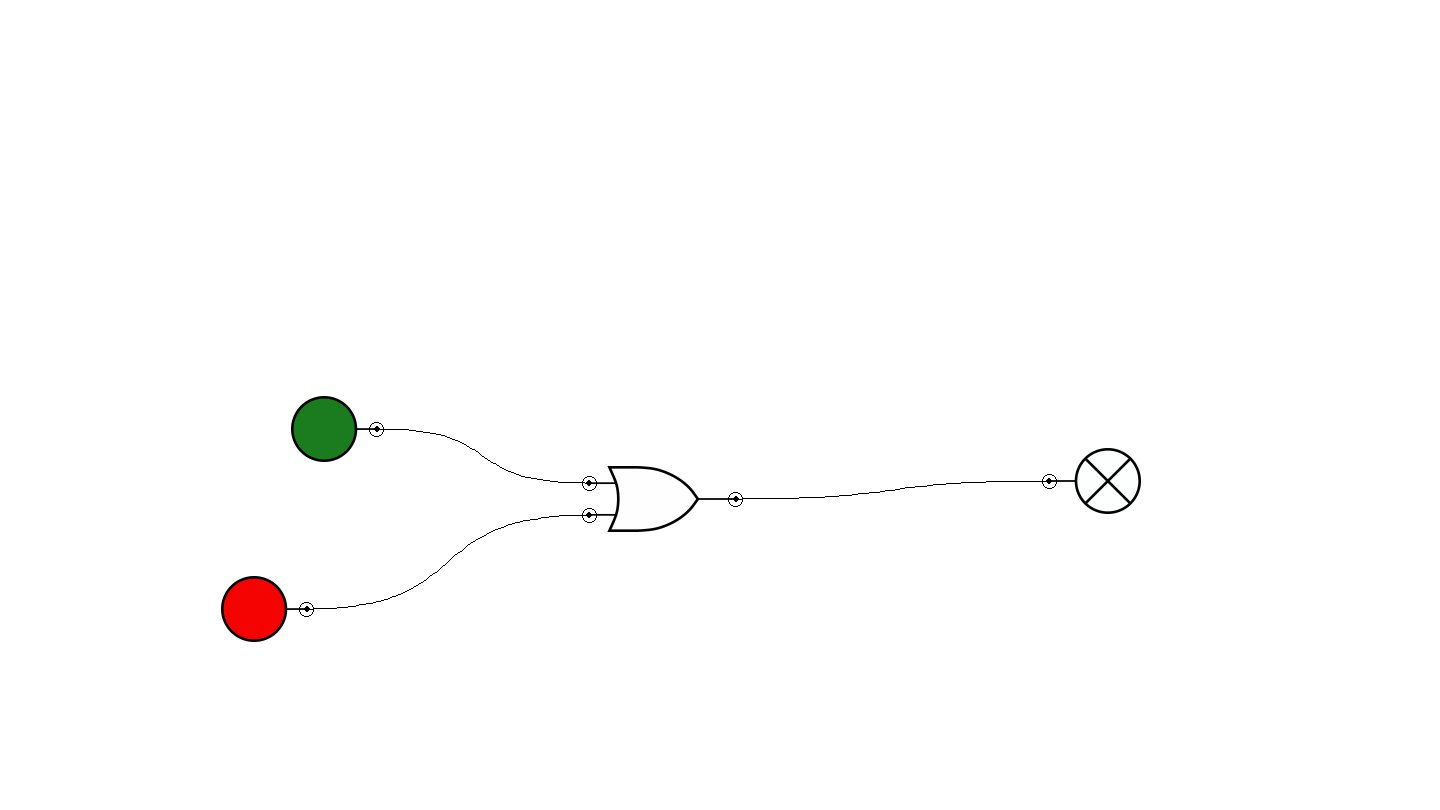bulb: (1042, 448, 1141, 514)
or: (582, 466, 743, 532)
switch_False: (221, 576, 314, 642)
switch_True: (291, 396, 384, 462)
